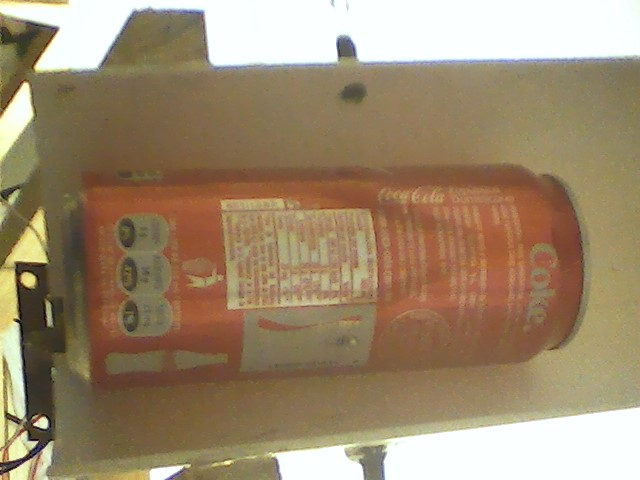lata: (63, 162, 593, 395)
